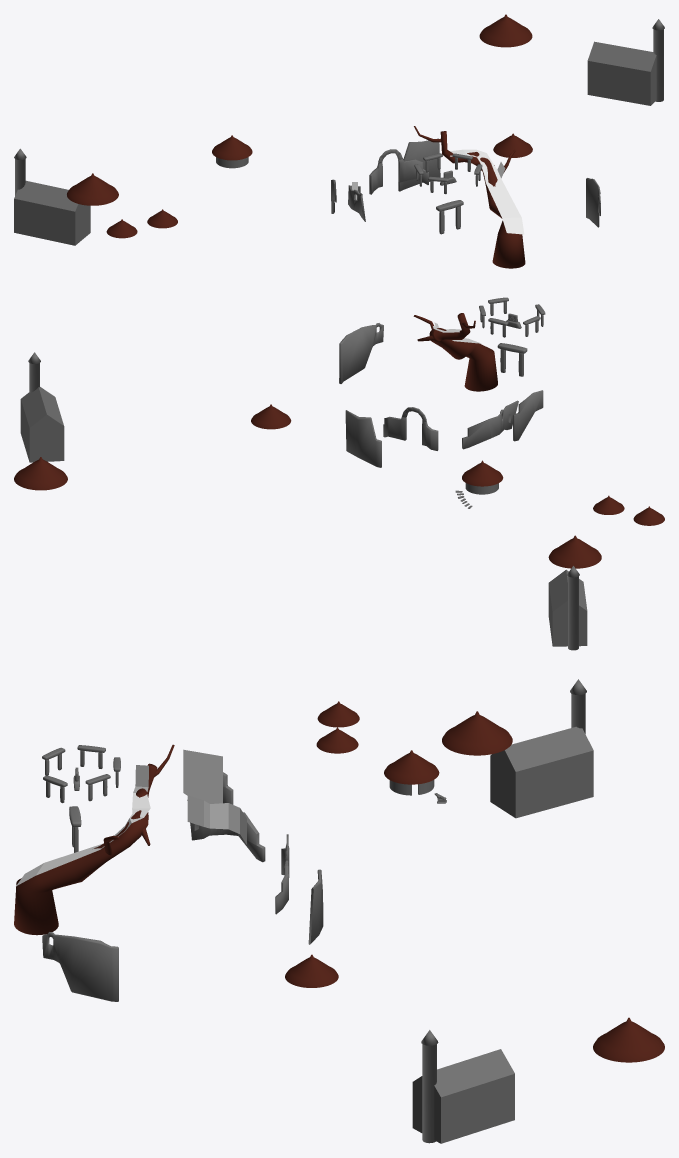
Rendered from cycle_1.glb.
The picture shows the model from 3 angles, top to bottom: view 1: azimuth 30°, elevation 25°; view 2: azimuth 150°, elevation 25°; view 3: azimuth 270°, elevation 25°; orthographic projection. The views are drawn at different scales.
Parts seen in each view (by area): view 1: Church, Church.001, TreeUpper, GardenWall.002, TreeUpperCol, RitualSite, HutRoof.005, HutRoof.003, Arch, HutRoof, HutRoof.004, HutRoof.002 (+2 smaller); view 2: Church, GardenWall.002, Church.001, TreeUpper, RitualSite, HutRoof.005, HutRoof.003, GardenWall, Arch, GardenWall.001, HutRoof, HutRoof.004; view 3: Church.001, Church, TreeUpper, GardenWall.002, CelticBoundary, HutRoof.005, HutRoof.003, RitualSite, TreeUpperCol, HutRoof, HutRoof.004, GardenWall (+2 smaller).
Boxes of the visible parts, bbox=[...] form: Church: bbox=[587, 19, 664, 105]; Church.001: bbox=[14, 148, 90, 245]; TreeUpper: bbox=[414, 126, 525, 268]; GardenWall.002: bbox=[398, 138, 600, 227]; TreeUpperCol: bbox=[450, 149, 524, 234]; RitualSite: bbox=[414, 153, 482, 234]; HutRoof.005: bbox=[479, 14, 532, 47]; HutRoof.003: bbox=[67, 173, 118, 205]; Arch: bbox=[369, 149, 428, 194]; HutRoof: bbox=[212, 135, 252, 160]; HutRoof.004: bbox=[493, 133, 532, 157]; HutRoof.002: bbox=[106, 219, 137, 238]; Church: bbox=[20, 352, 64, 462]; GardenWall.002: bbox=[339, 323, 383, 467]; Church.001: bbox=[548, 566, 587, 650]; TreeUpper: bbox=[413, 313, 497, 391]; RitualSite: bbox=[479, 297, 545, 376]; HutRoof.005: bbox=[14, 457, 67, 490]; HutRoof.003: bbox=[548, 535, 601, 568]; GardenWall: bbox=[462, 400, 518, 449]; Arch: bbox=[383, 407, 438, 450]; GardenWall.001: bbox=[513, 390, 543, 441]; HutRoof: bbox=[462, 460, 503, 486]; HutRoof.004: bbox=[251, 404, 291, 429]; Church.001: bbox=[490, 679, 593, 818]; Church: bbox=[412, 1030, 514, 1143]; TreeUpper: bbox=[14, 744, 174, 935]; GardenWall.002: bbox=[42, 869, 323, 1001]; CelticBoundary: bbox=[183, 749, 246, 844]; HutRoof.005: bbox=[593, 1017, 664, 1062]; HutRoof.003: bbox=[442, 711, 512, 755]; RitualSite: bbox=[42, 745, 120, 852]; TreeUpperCol: bbox=[16, 765, 150, 886]; HutRoof: bbox=[384, 750, 439, 784]; HutRoof.004: bbox=[285, 954, 338, 987]; GardenWall: bbox=[187, 800, 265, 862].
Size of the model in its own units: 203 by 49.16 by 140.
